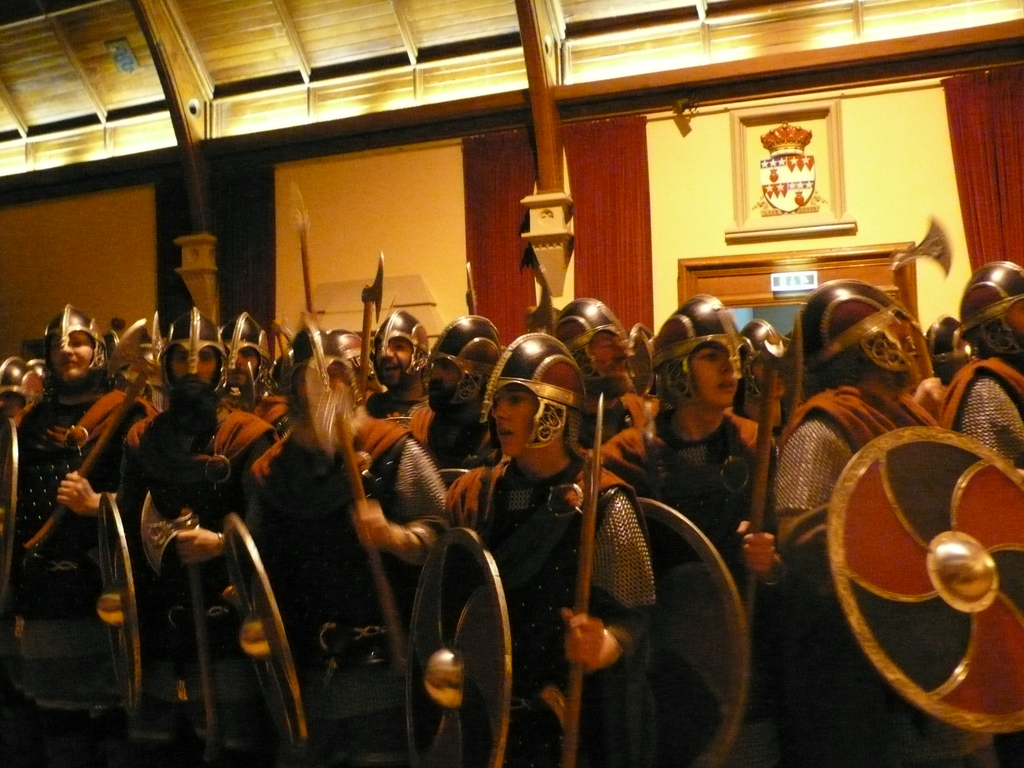Person: (0, 260, 1024, 768)
